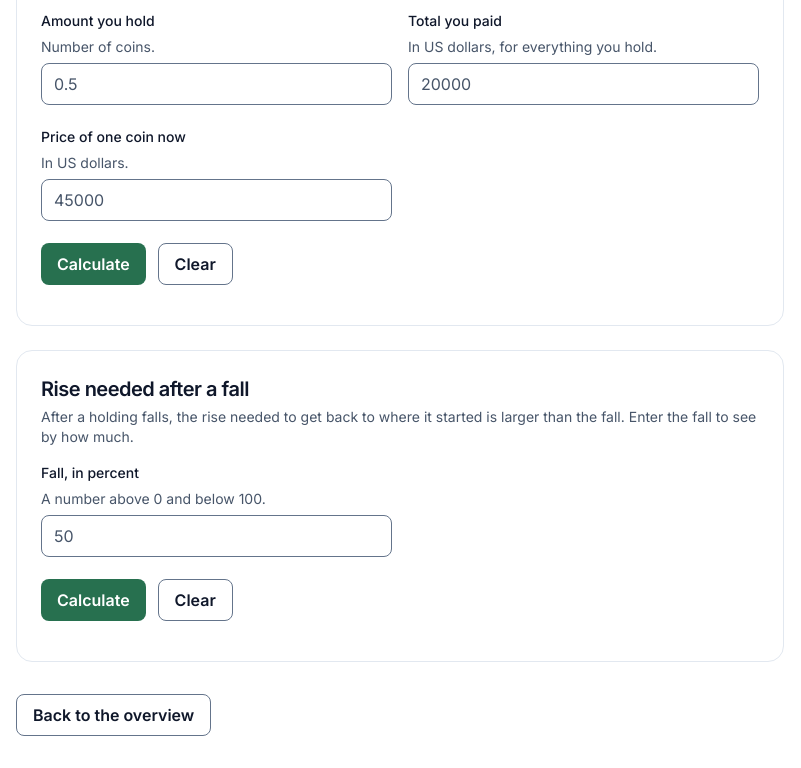
Test: Research tools page › refuses a fall of 100 percent and explains why
(page scrolled)
Type "100" into the field labelled "Fall, in percent" at (216, 536), box x1=41 y1=515 x2=392 y2=557
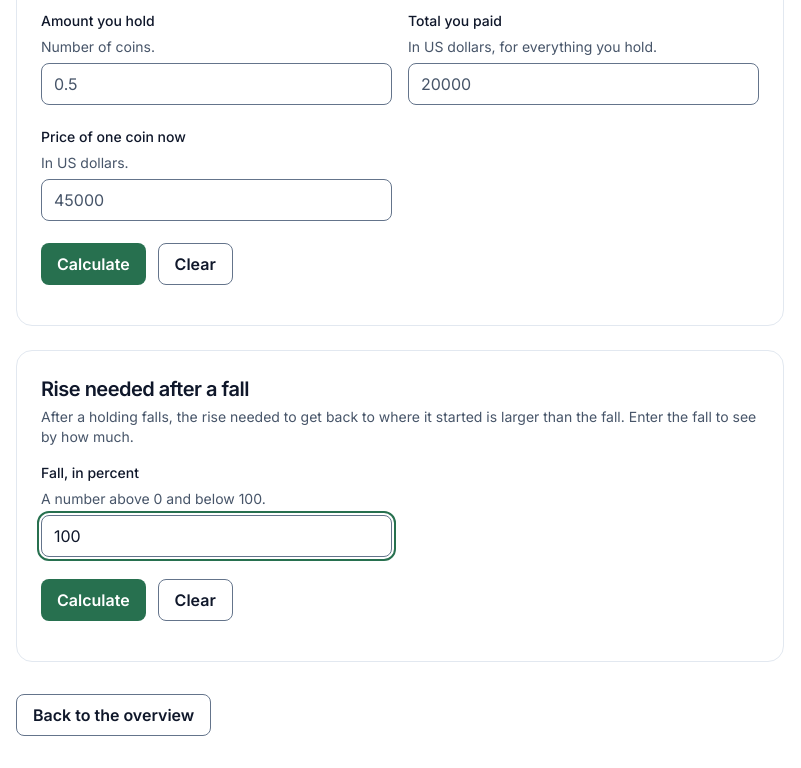
Click the button "Calculate" below "A number above 0 and below 100." at (93, 600), box x1=41 y1=579 x2=146 y2=621
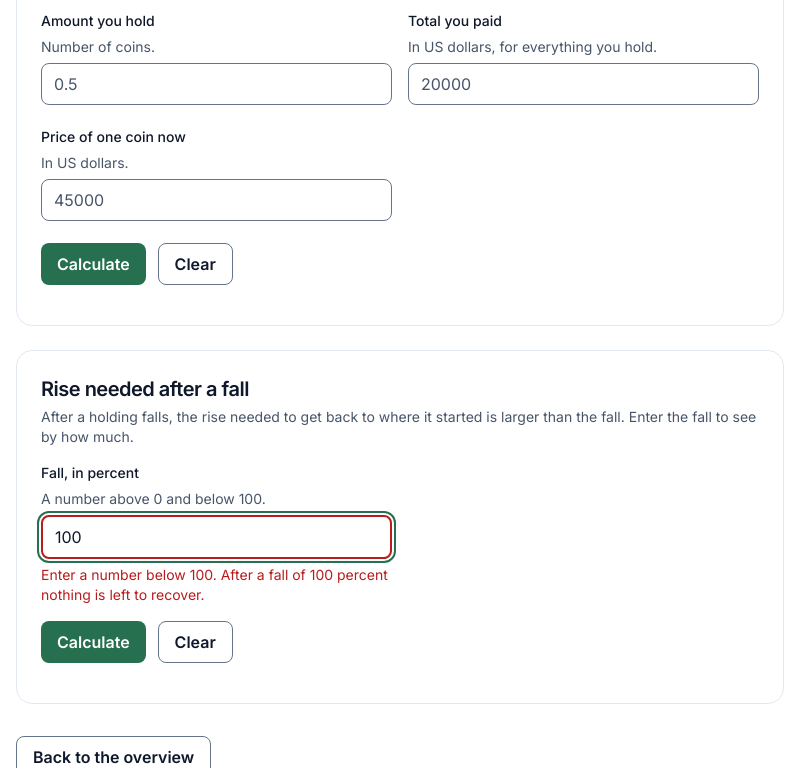
Expected: the text "nothing is left to recover" is shown, x1=41 y1=566 x2=388 y2=603
